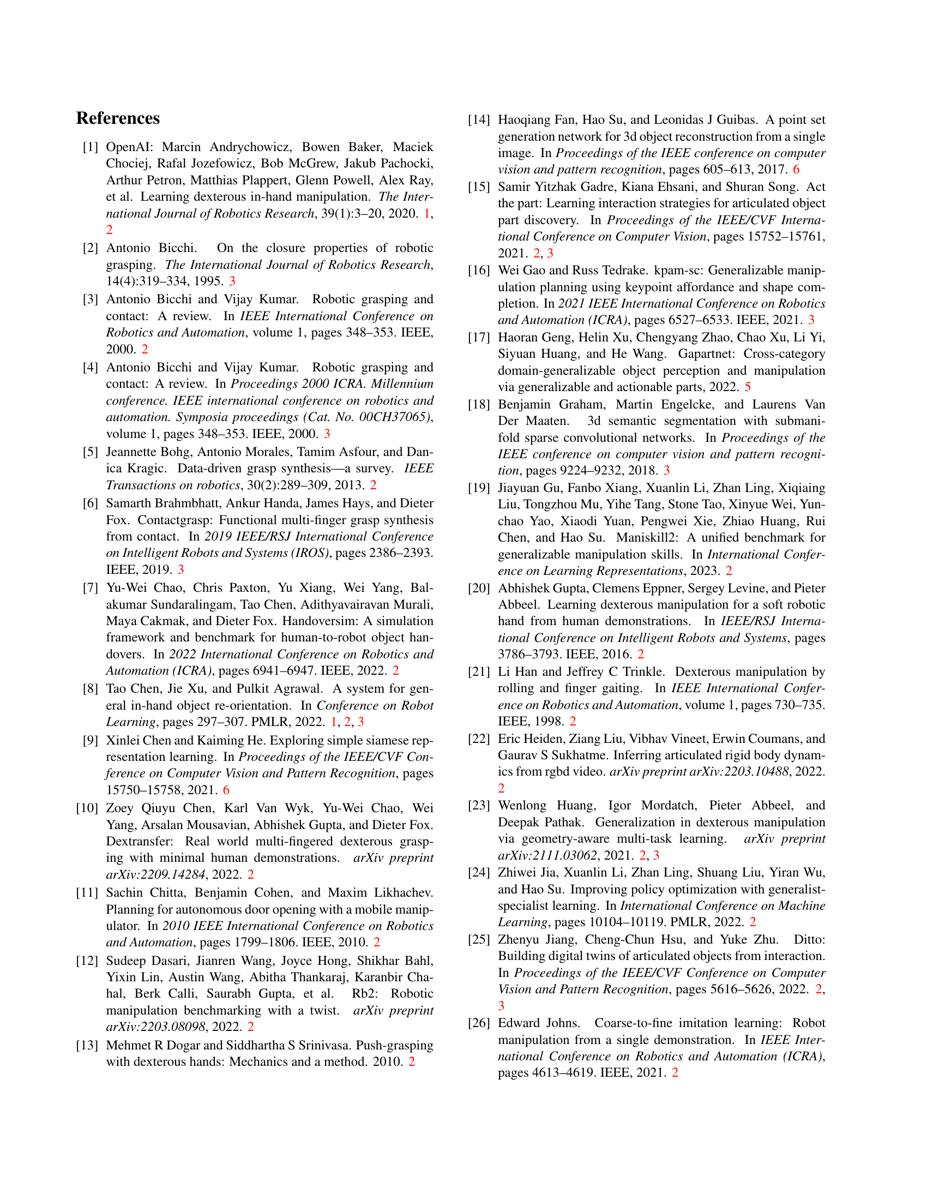text: (463, 580, 830, 1084), (72, 579, 438, 1072), (72, 105, 438, 579), (463, 109, 830, 579)
